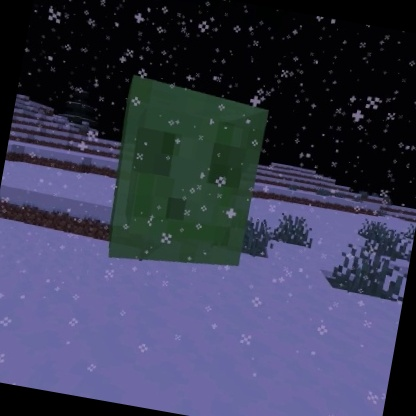slime: (95, 70, 275, 284)
